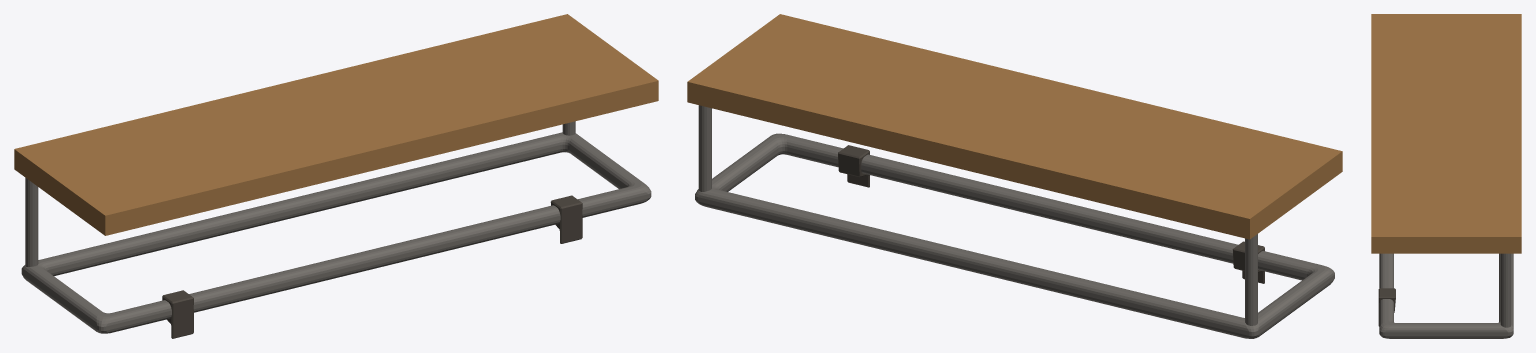
Rendered from HatRack.fbx.
3 views of the same model, side by side, from view 1: azimuth 30°, elevation 25°; view 2: azimuth 150°, elevation 25°; view 3: azimuth 270°, elevation 25° (orthographic). The views are drawn at different scales.
Visible parts, largest first — view 1: Cube.001; view 2: Cube.001; view 3: Cube.001.
Boxes of the visible parts, box(x1,y1,x2,y2) form: Cube.001: box(14, 14, 658, 338); Cube.001: box(687, 14, 1342, 338); Cube.001: box(1371, 14, 1521, 338).
Size of the model in its own units: 926 by 264 by 231.
